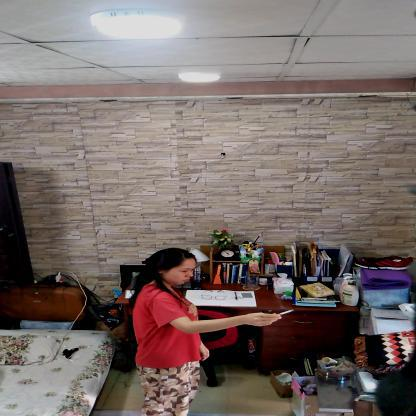cigarette: (278, 308, 295, 316)
person: (126, 247, 214, 415)
smoke: (280, 306, 285, 309)
